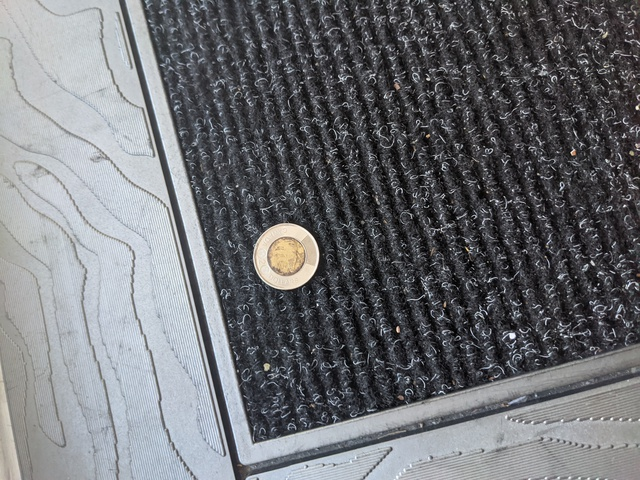twonie: (243, 219, 330, 297)
